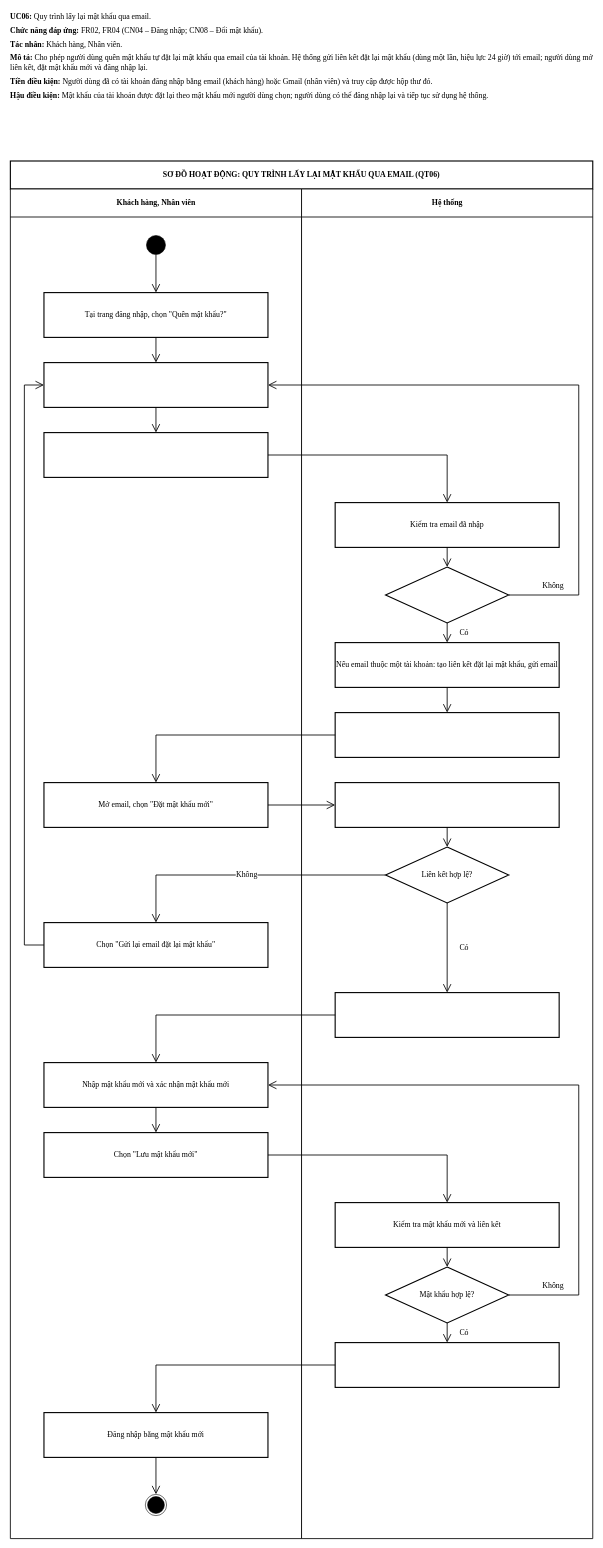
Some shapes in this 603 by 1548 pixel diagram are drawn without their labels. The centre of each missing label's shape, as x and y in pixels:
Chọn "Gửi email đặt lại mật khẩu": point (155, 455)
Email hợp lệ?: point (447, 594)
Hiển thị trang hướng dẫn kiểm tra email: point (446, 735)
Hiển thị trang đặt mật khẩu mới: point (446, 1015)
Kiểm tra liên kết đặt lại mật khẩu: point (446, 805)
Lưu mật khẩu mới, báo đã đổi mật khẩu: point (446, 1365)
Nhập email của tài khoản: point (155, 385)
